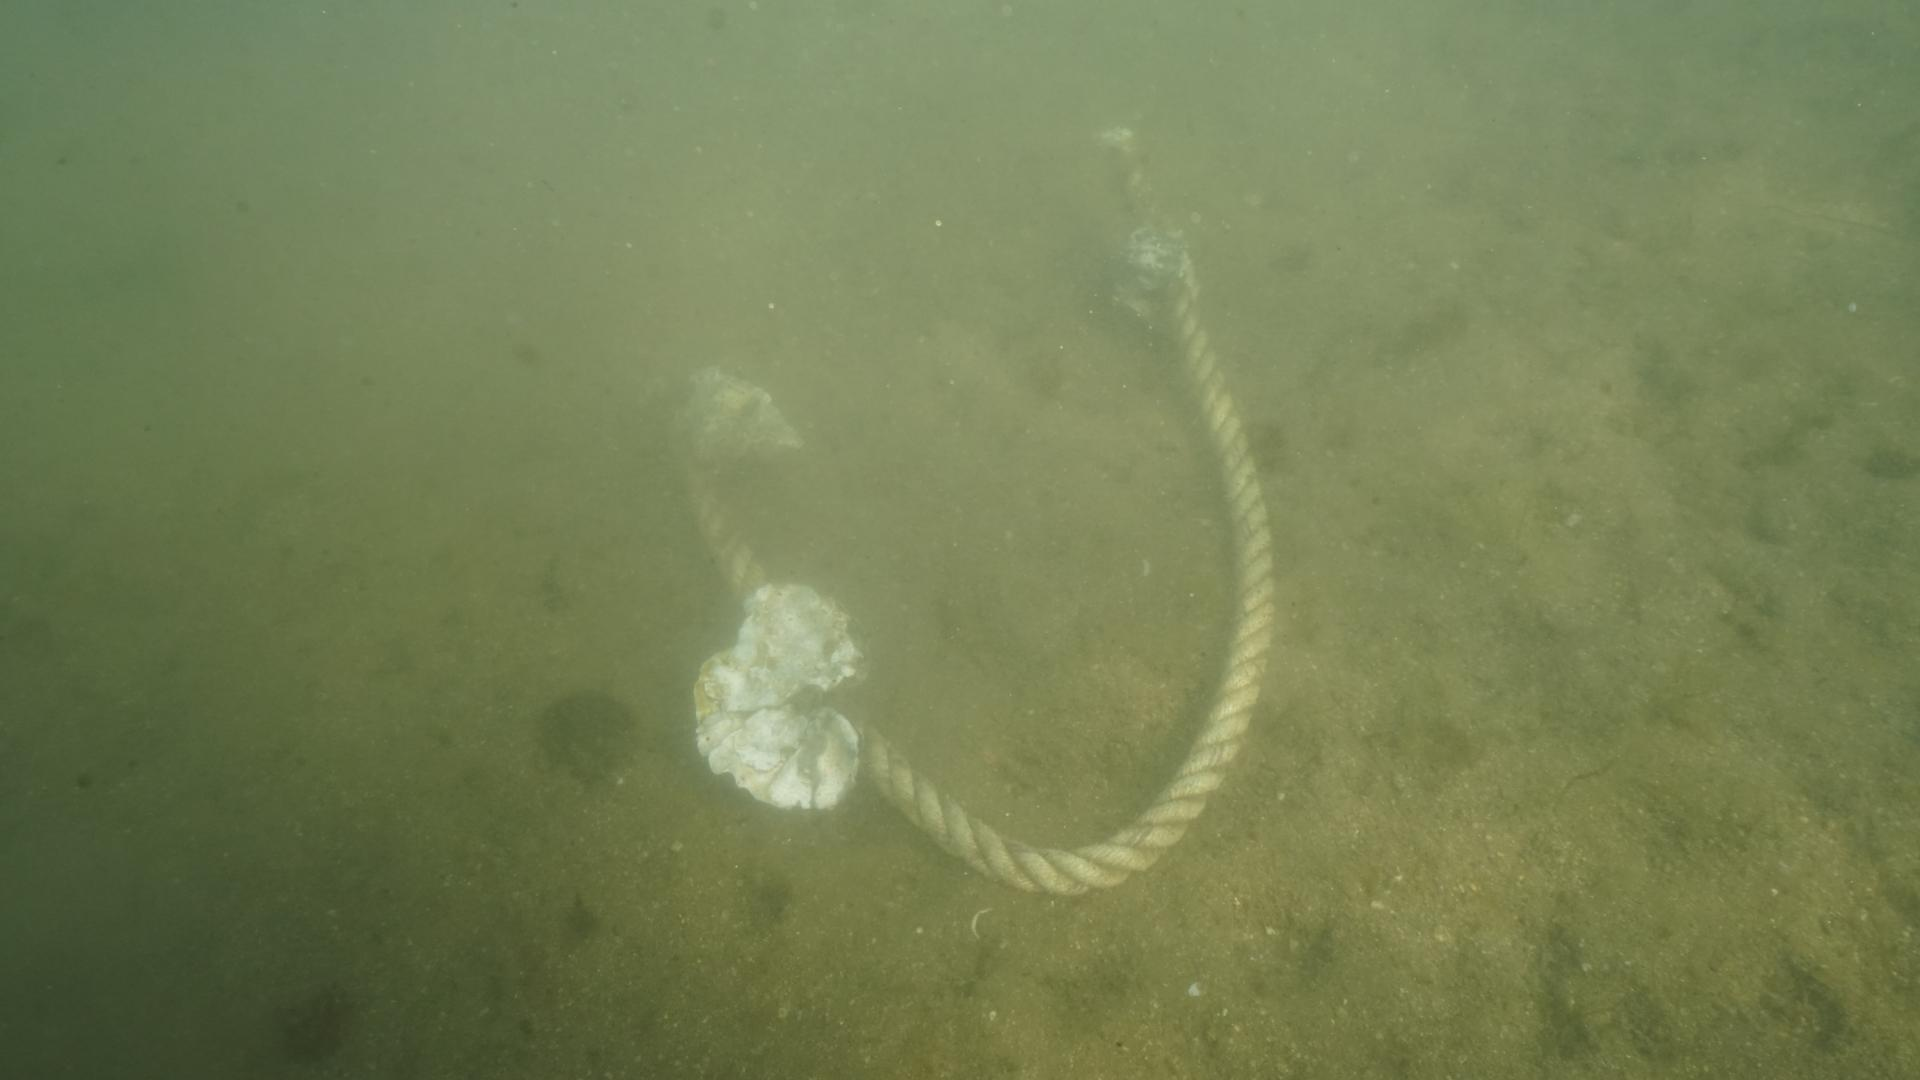rope: (667, 128, 1282, 902)
